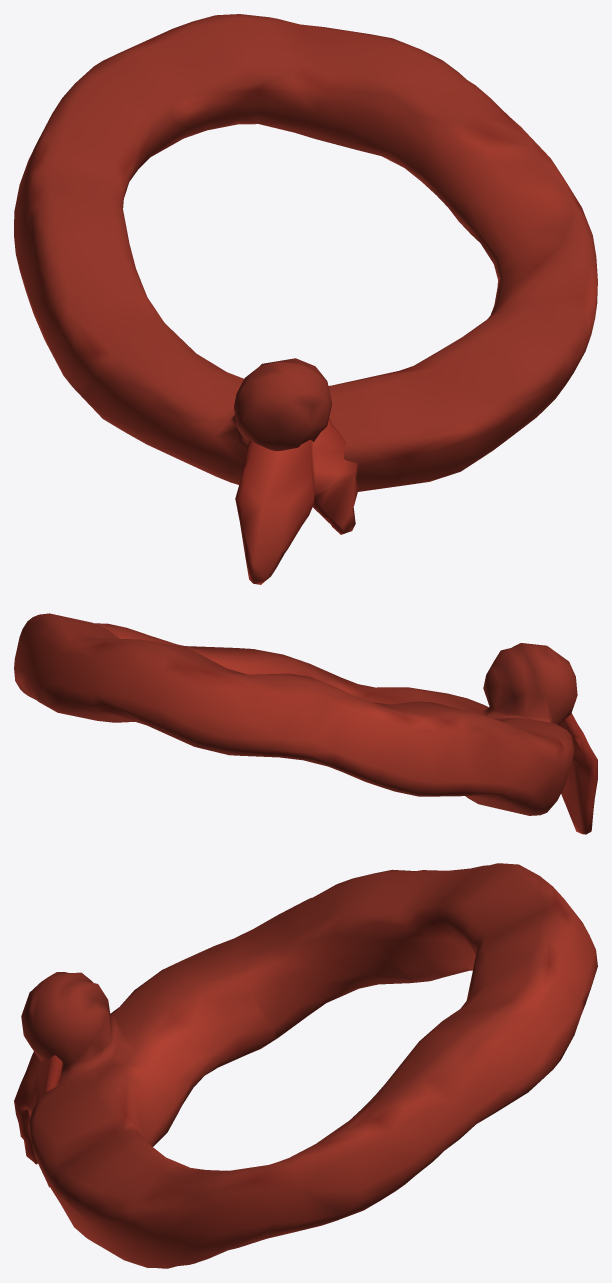
The model's file is khando.glb.
3 renders of one model, top to bottom at view 1: azimuth 30°, elevation 25°; view 2: azimuth 150°, elevation 25°; view 3: azimuth 270°, elevation 25°, orthographic. The views are drawn at different scales.
Parts seen in each view (by area): view 1: Khan_Do, Khan_Do_Duoi; view 2: Khan_Do, Khan_Do_Duoi; view 3: Khan_Do, Khan_Do_Duoi.
Part boxes in pixels (x1,y1,x2,y2): Khan_Do: (14,14,597,491); Khan_Do_Duoi: (235,418,357,584); Khan_Do: (14,613,577,815); Khan_Do_Duoi: (559,713,597,834); Khan_Do: (21,863,597,1268); Khan_Do_Duoi: (14,1051,62,1187).
Bounding box in the file's own units: 0.2766 × 0.171 × 0.2643.
